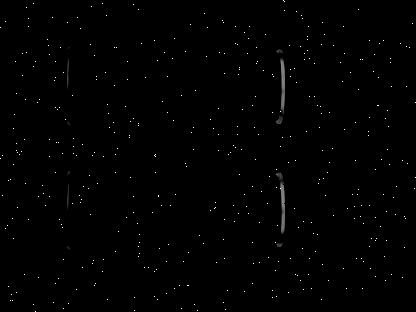Can: (59, 166, 287, 254), (60, 43, 286, 130)
